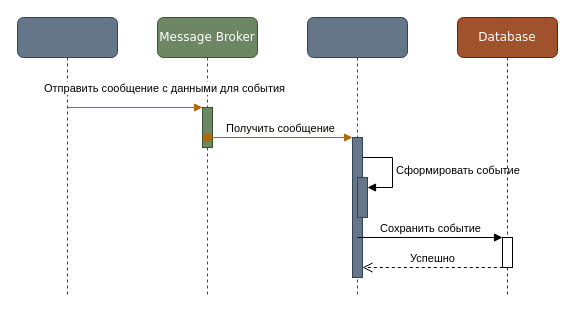
Some shapes in this 575 by 315 pixel diagram are drawn without their labels. Here are the shapes that lost their labels. From the top down, the box of each, then its label:
(16, 16, 118, 298): Eftech.Factory Service
(306, 16, 408, 298): event-logger
